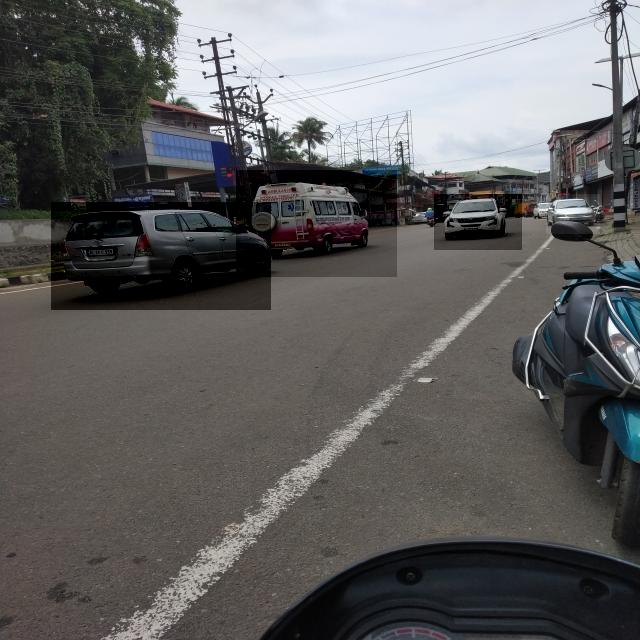Car: (51, 202, 271, 310), (434, 194, 522, 250), (546, 194, 600, 234)
Travller: (236, 170, 397, 277)
